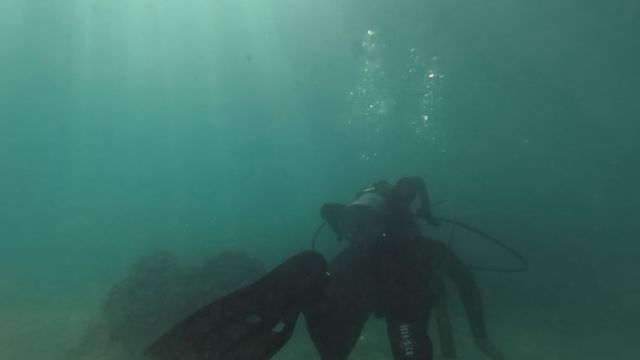Hand: (468, 332, 509, 355)
